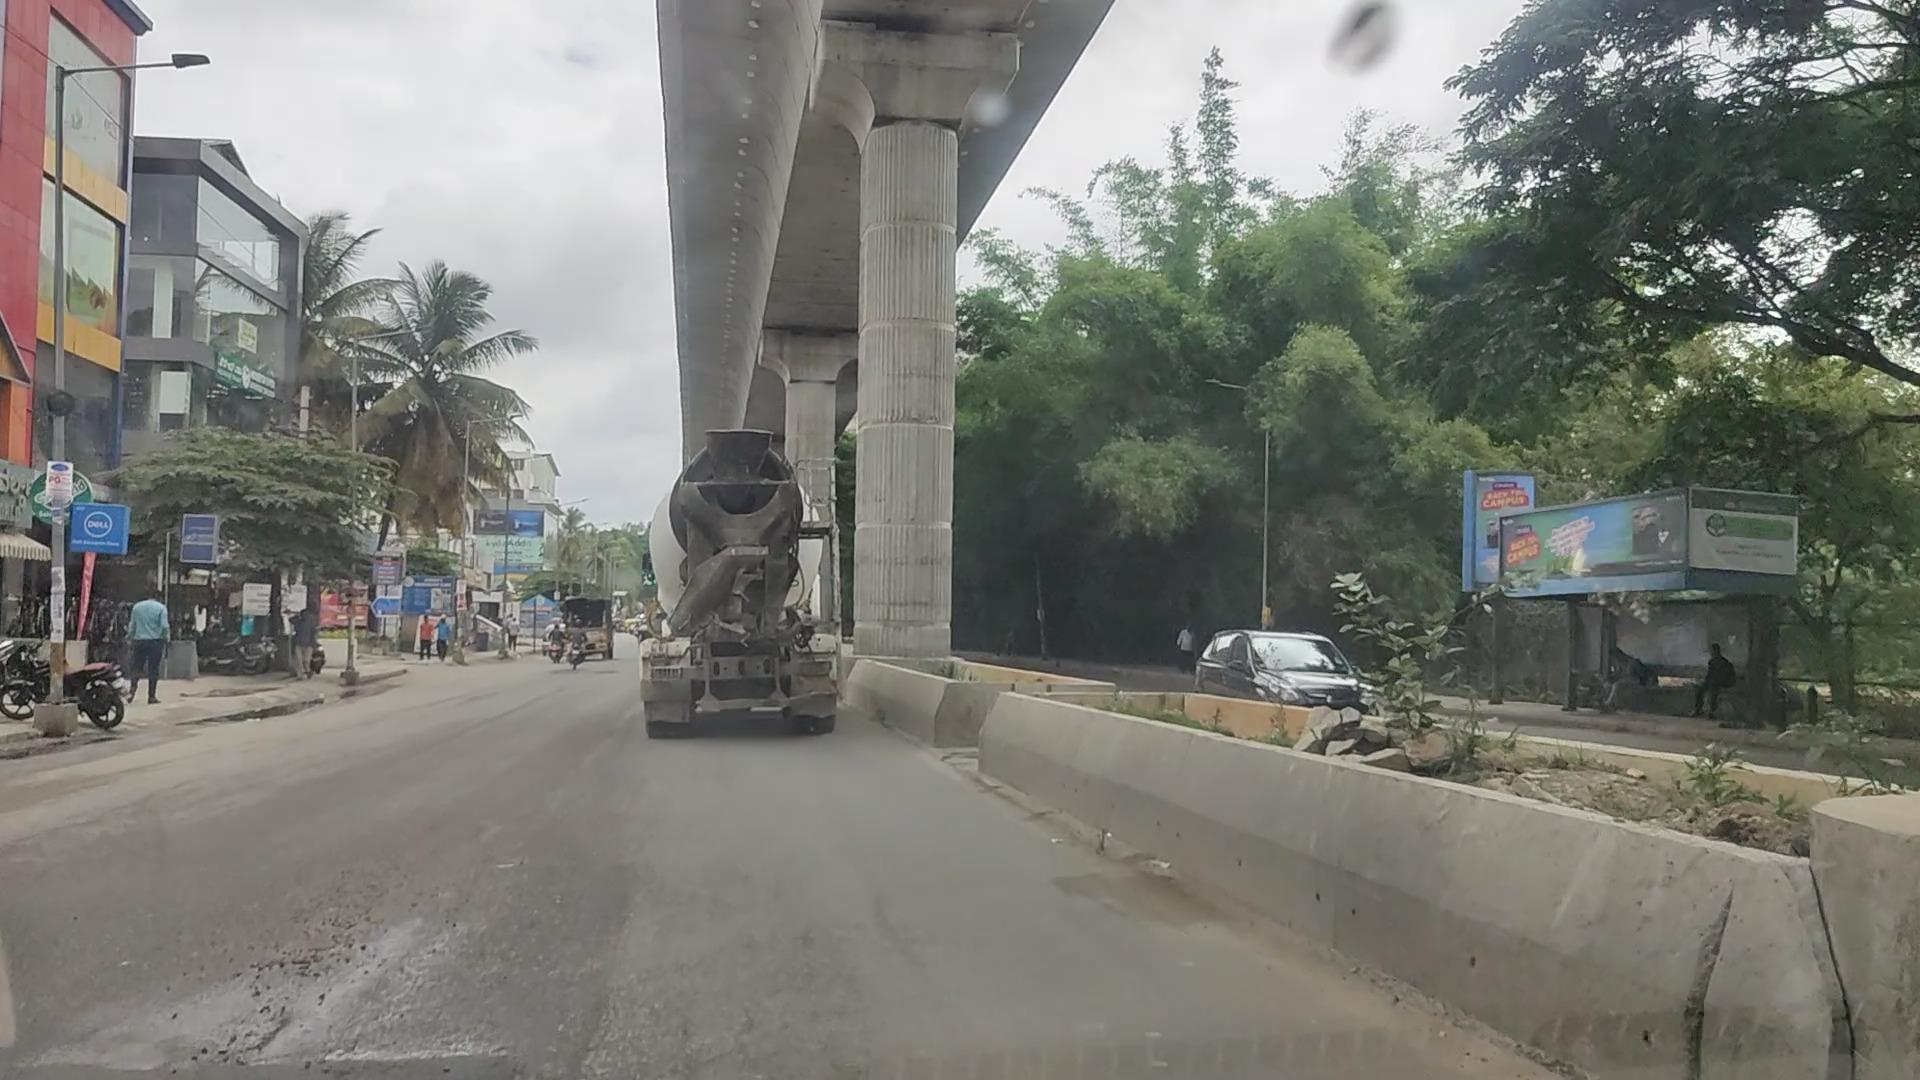HMV: (641, 428, 829, 712)
RoadDamages: (74, 922, 500, 1072)
